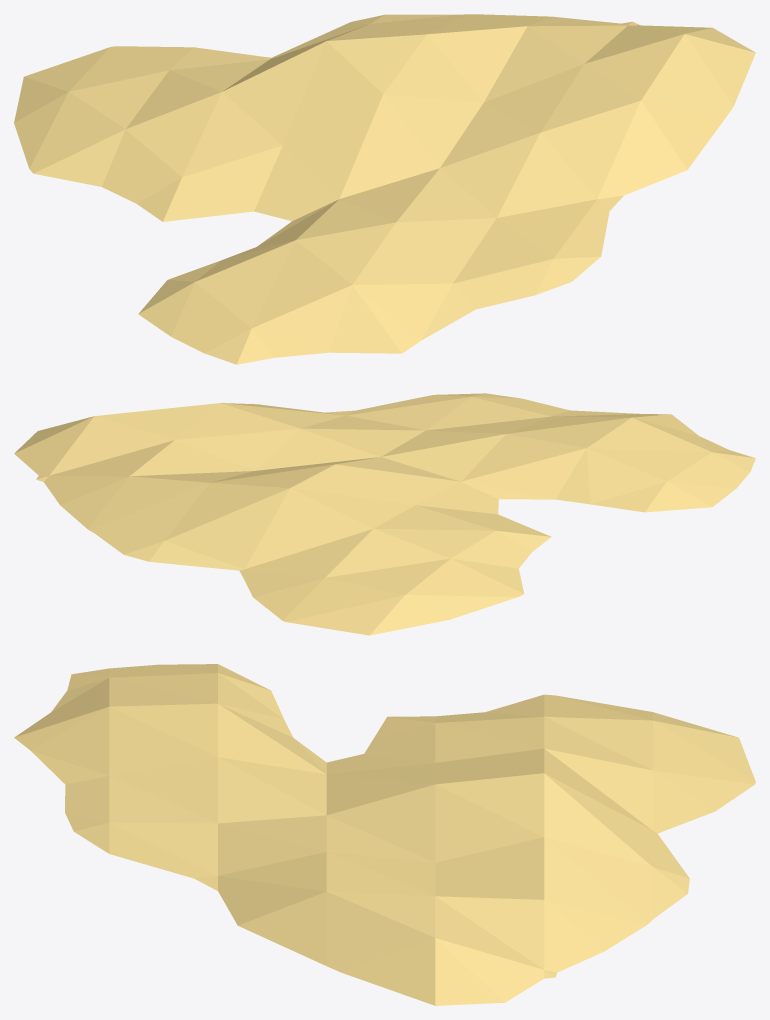
The model's file is Terrain_Sand_Dune_Peak_01.FBX.
The picture shows the model from 3 angles, top to bottom: view 1: azimuth 30°, elevation 25°; view 2: azimuth 150°, elevation 25°; view 3: azimuth 270°, elevation 25°; orthographic projection. The views are drawn at different scales.
Parts seen in each view (by area): view 1: Terrain_Sand_Dune_Peak_01; view 2: Terrain_Sand_Dune_Peak_01; view 3: Terrain_Sand_Dune_Peak_01.
Part boxes in pixels (box(x1,y1,x2,y2)): Terrain_Sand_Dune_Peak_01: box(14, 14, 755, 364); Terrain_Sand_Dune_Peak_01: box(14, 393, 755, 635); Terrain_Sand_Dune_Peak_01: box(14, 664, 755, 1005).
Size of the model in its own units: 16350 by 1304 by 14994.
